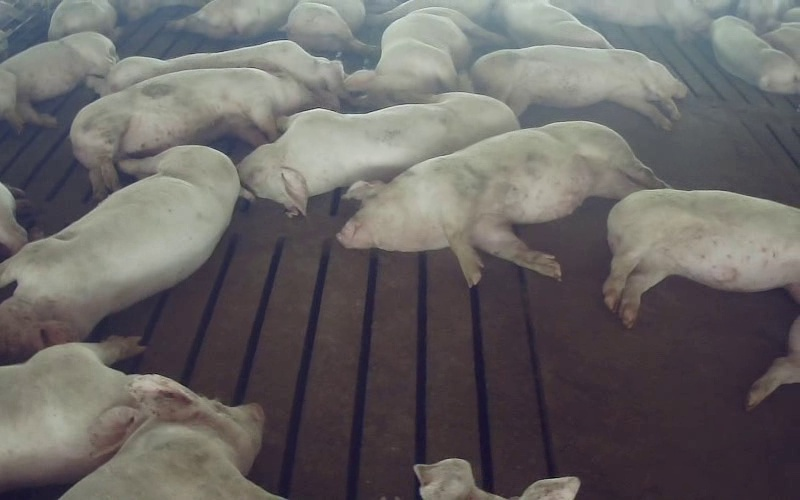pig: (337, 121, 665, 285), (0, 145, 239, 362), (238, 92, 518, 214), (70, 69, 326, 198), (61, 375, 281, 499), (603, 189, 799, 326), (471, 45, 687, 129), (344, 7, 505, 107), (88, 40, 343, 95), (0, 32, 117, 130), (709, 16, 799, 93)
